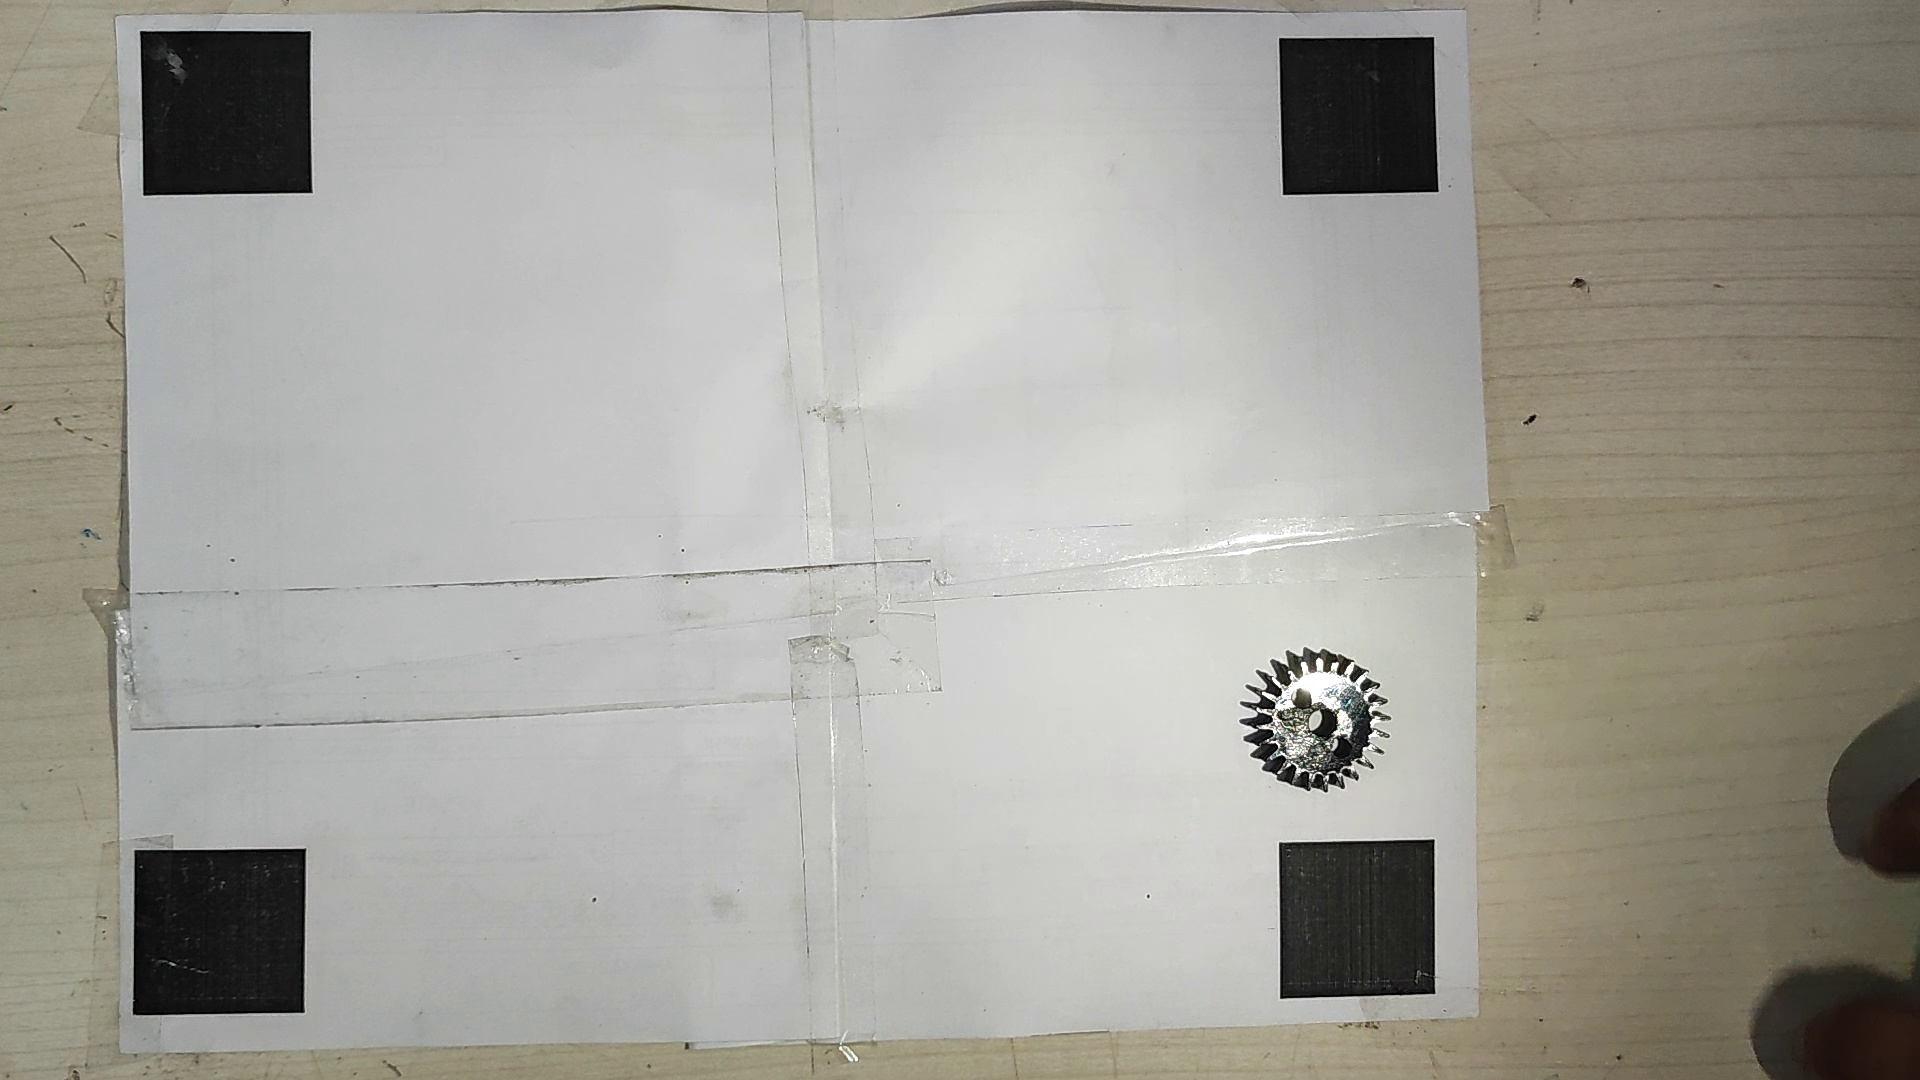Gear: (1240, 644, 1391, 794)
